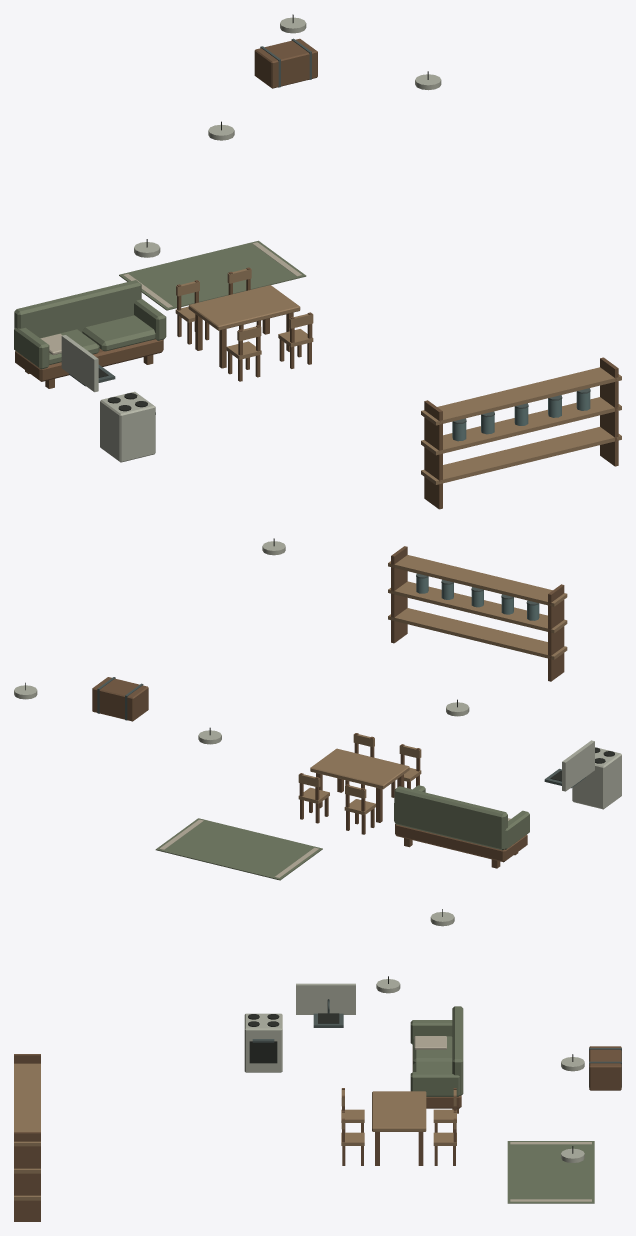
File: home_furniture.glb
The picture shows the model from 3 angles, top to bottom: view 1: azimuth 30°, elevation 25°; view 2: azimuth 150°, elevation 25°; view 3: azimuth 270°, elevation 25°; orthographic projection. The views are drawn at different scales.
Parts seen in each view (by area): view 1: home_furniture; view 2: home_furniture; view 3: home_furniture.
Boxes of the visible parts, x1=… form: home_furniture: x1=14, y1=14, x2=621, y2=509; home_furniture: x1=14, y1=538, x2=621, y2=880; home_furniture: x1=14, y1=909, x2=621, y2=1221.
Bounding box in the file's own units: 9.67 × 5.55 × 11.21.
